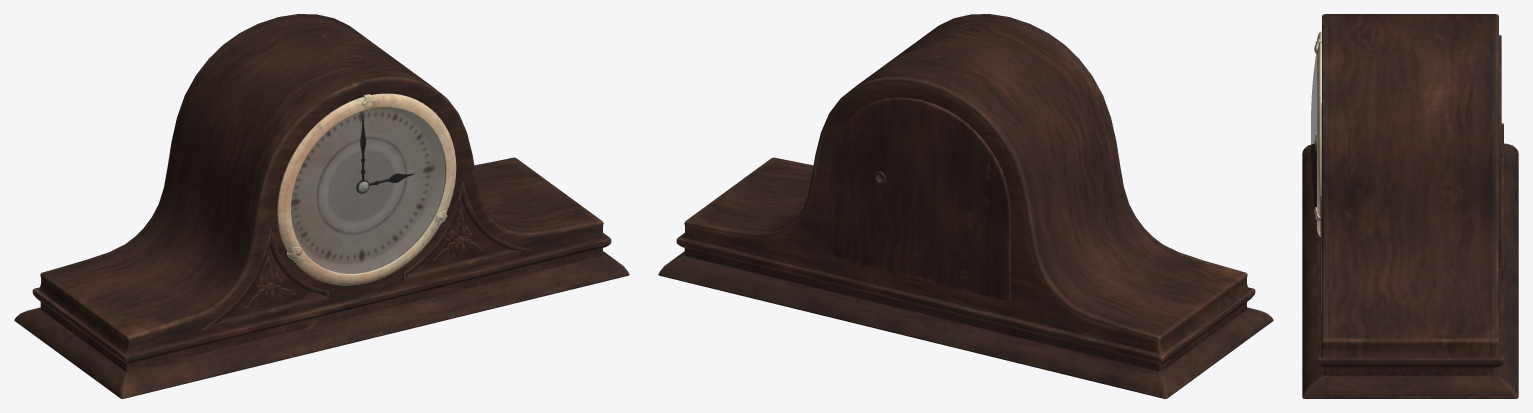
Rendered from mantel_clock_01.glb.
The picture shows the model from 3 angles, left to right: view 1: azimuth 30°, elevation 25°; view 2: azimuth 150°, elevation 25°; view 3: azimuth 270°, elevation 25°; orthographic projection.
Visible parts, largest first — view 1: mantel_clock_01, mantel_clock_01_glass; view 2: mantel_clock_01; view 3: mantel_clock_01, mantel_clock_01_glass.
Part boxes in pixels (box(x1,y1,x2,y2)): mantel_clock_01: box(14, 14, 629, 398); mantel_clock_01_glass: box(291, 107, 445, 273); mantel_clock_01: box(658, 14, 1273, 398); mantel_clock_01: box(1302, 14, 1518, 398); mantel_clock_01_glass: box(1311, 53, 1316, 207).
Bounding box in the file's own units: 0.3423 × 0.1605 × 0.1262.
2 materials, 2 textured.
